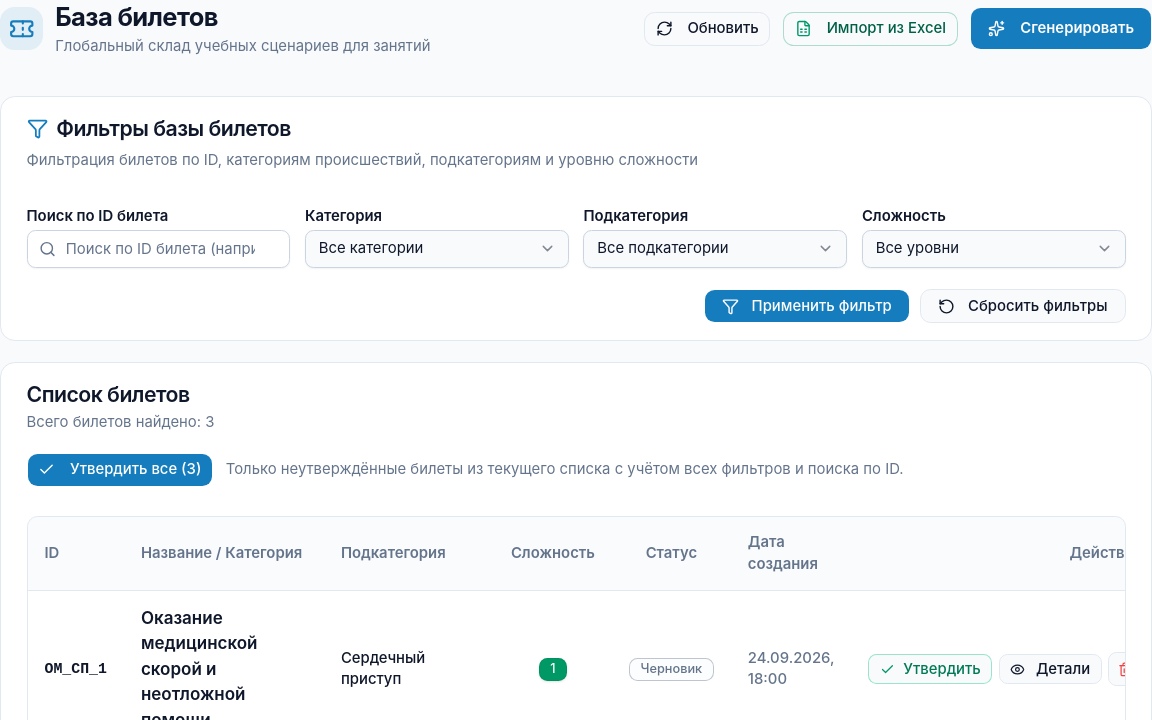
Test: 27.2 / ТЗ 30: База билетов и генерация › ТЗ 37.2: Street and House are read-only and Random Address generator button updates address fields
Click the button "Детали": (1050, 669) [999, 654, 1102, 684]
(page scrolled)
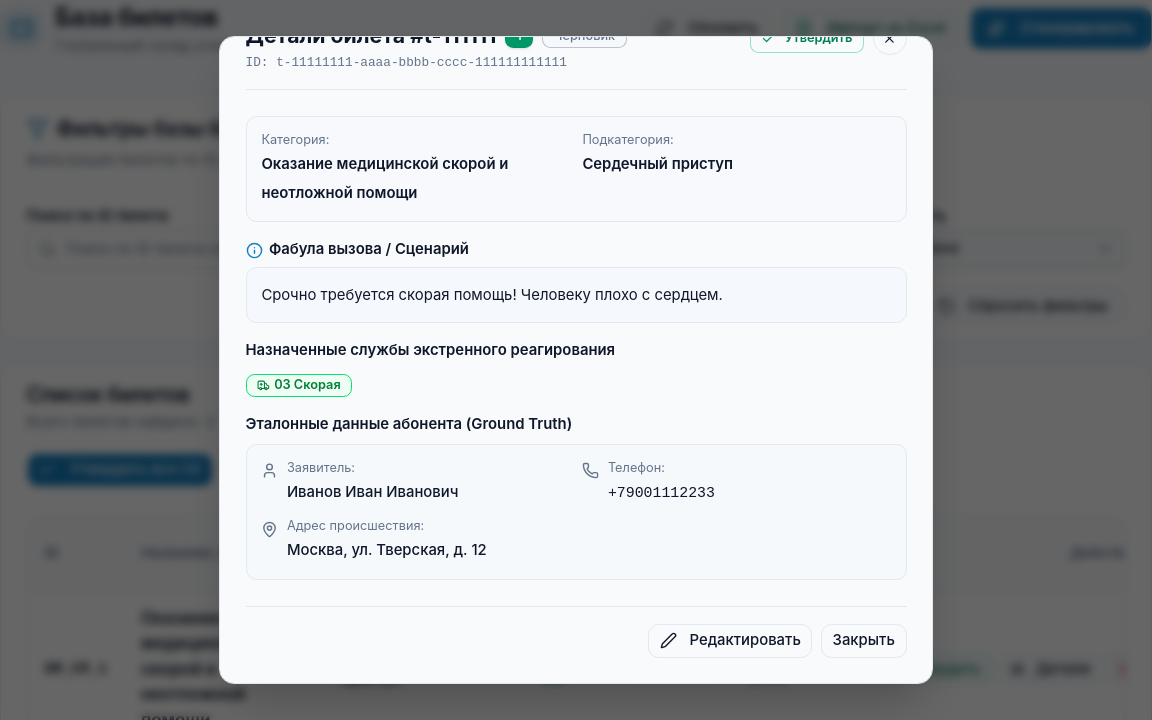
Expected: the dialog is shown
# Click Edit inside dialog
Click the button "Редактировать": (730, 641) [648, 624, 812, 658]
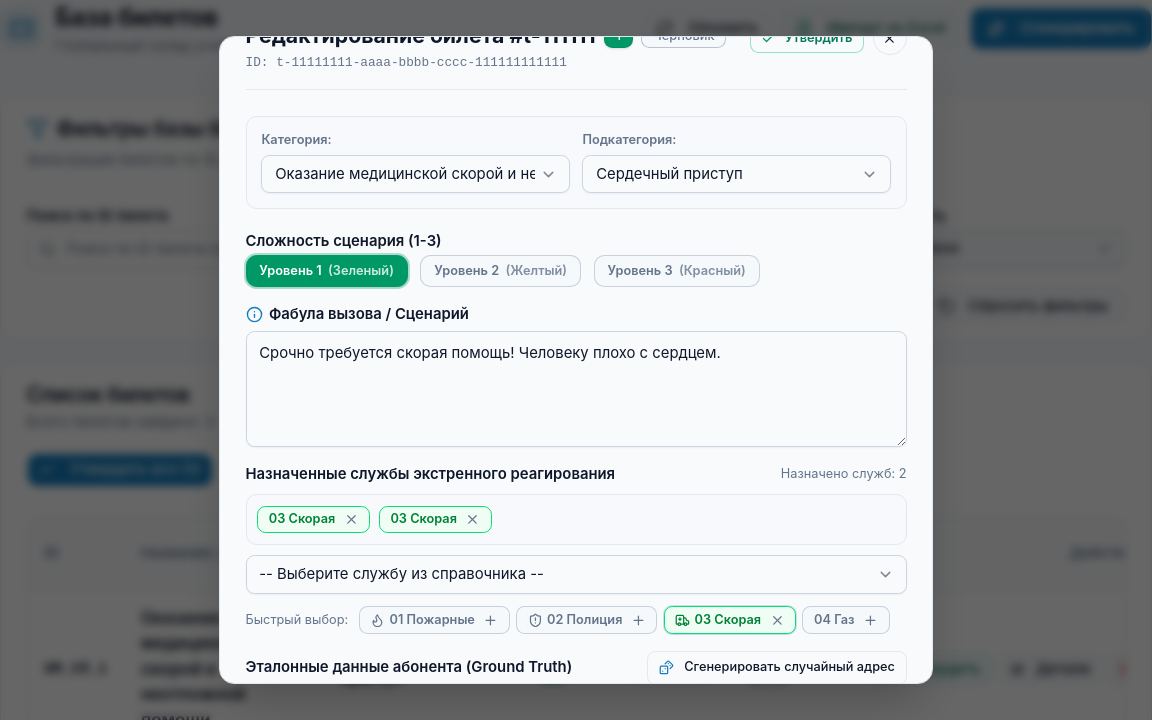
Expected: the button "Сгенерировать случайный адрес" is shown
# Click generate address
Click the button "Сгенерировать случайный адрес": (777, 668) [647, 651, 906, 685]
(page scrolled)
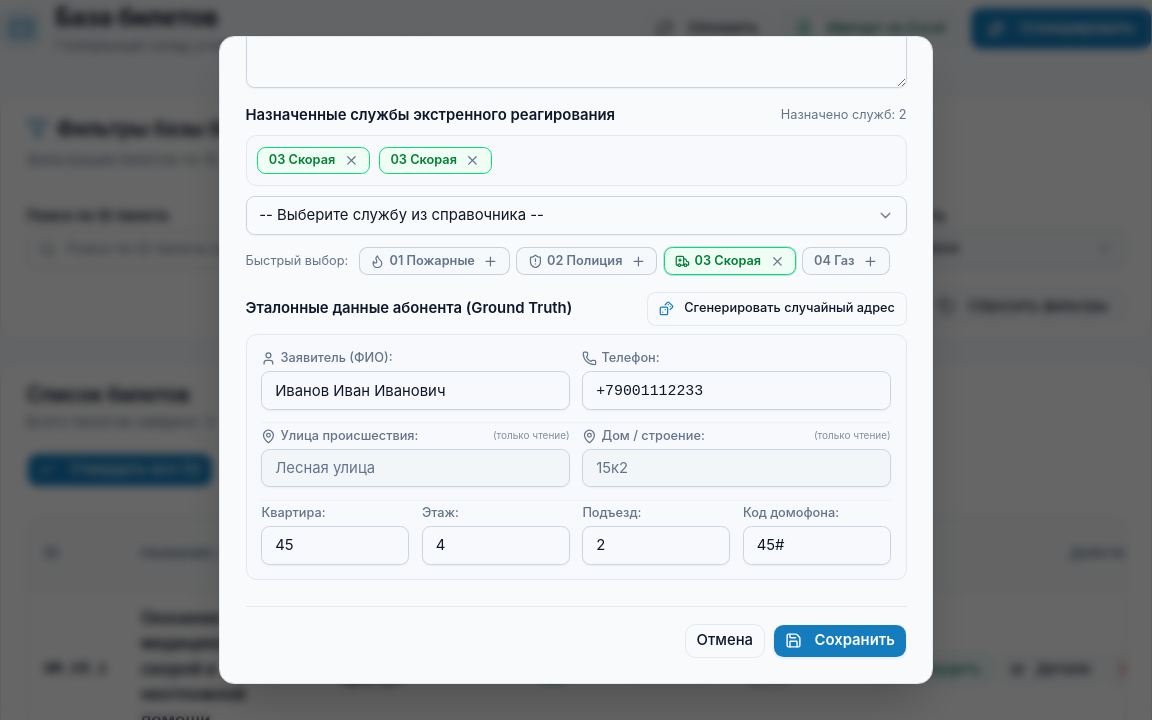
Expected: the field labelled "Улица происшествия: (только чтение)" holds "Лесная улица", [261, 449, 570, 487]
Expected: the field labelled "Дом / строение: (только чтение)" holds "15к2", [582, 449, 891, 487]
